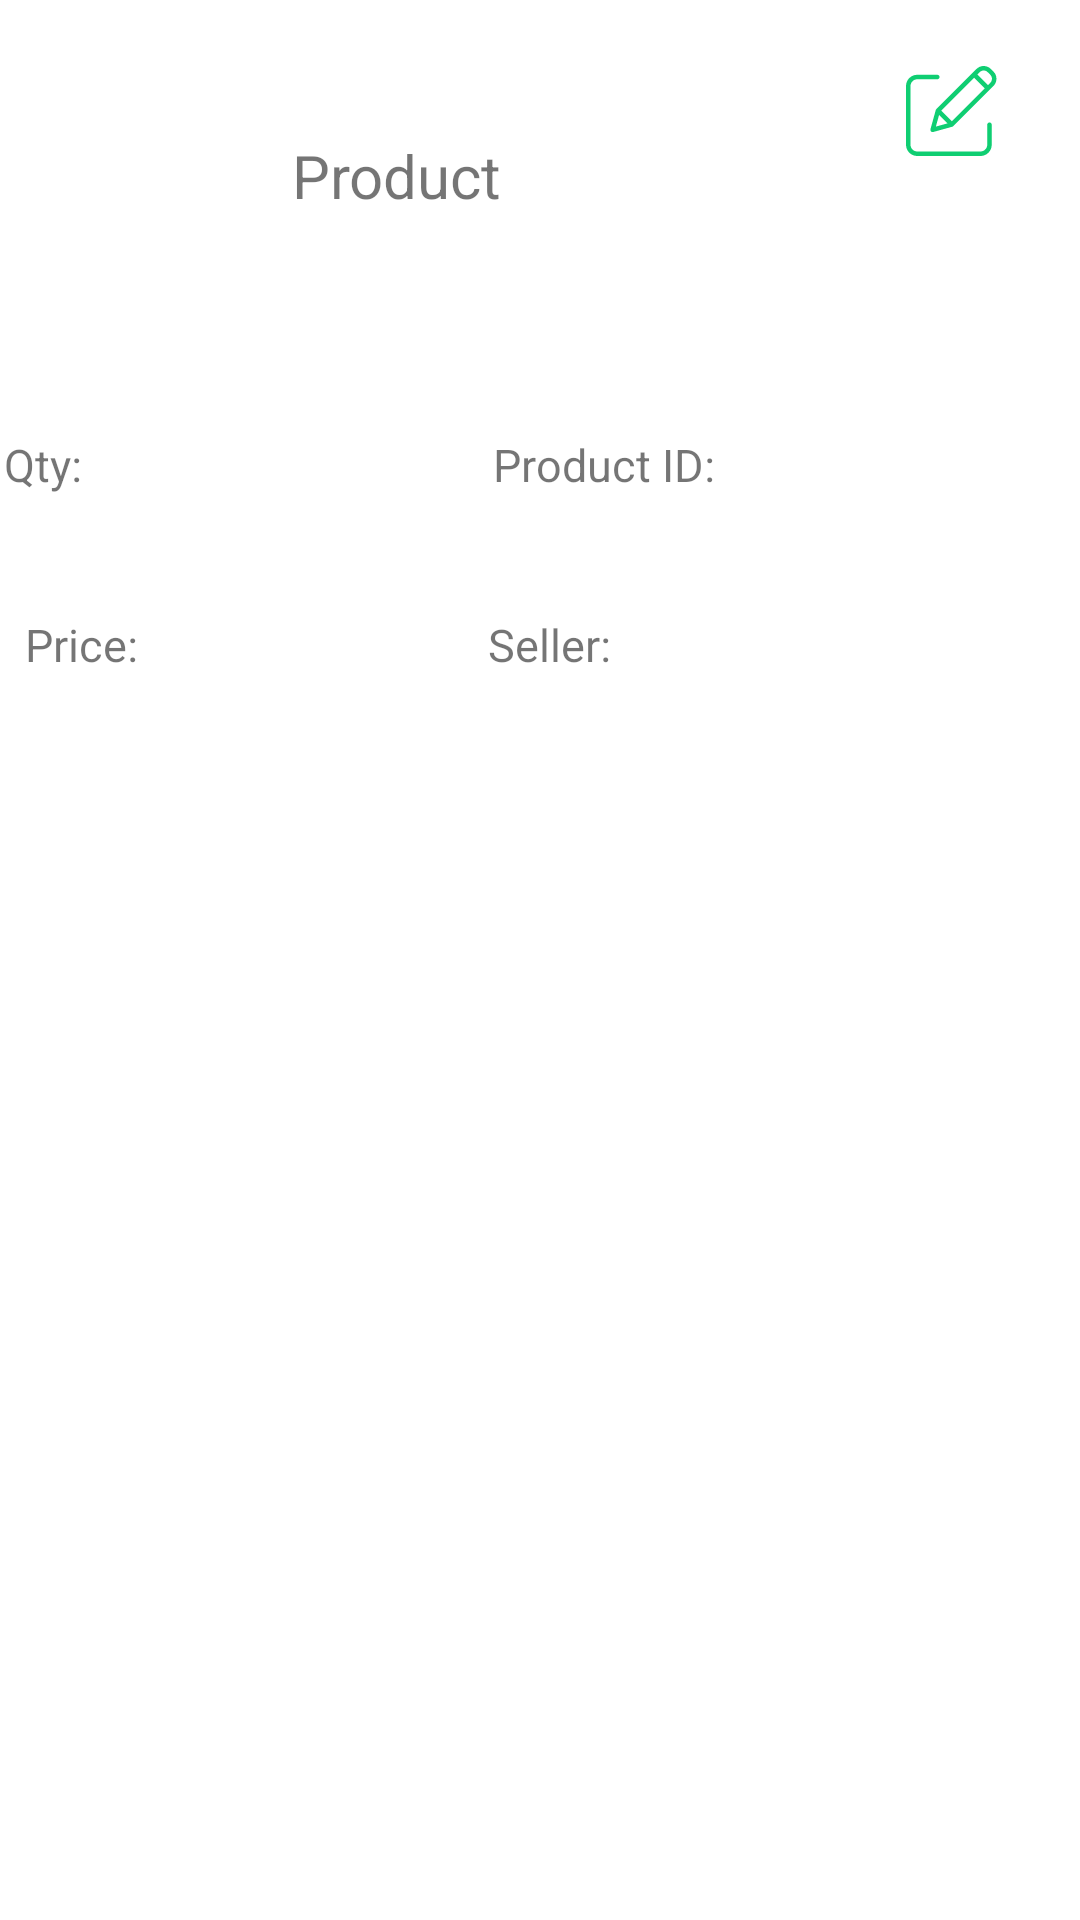

Named icons in this screenshot (1080px×1920px) and their centers, point (x, y):
edit: point (951, 111)
